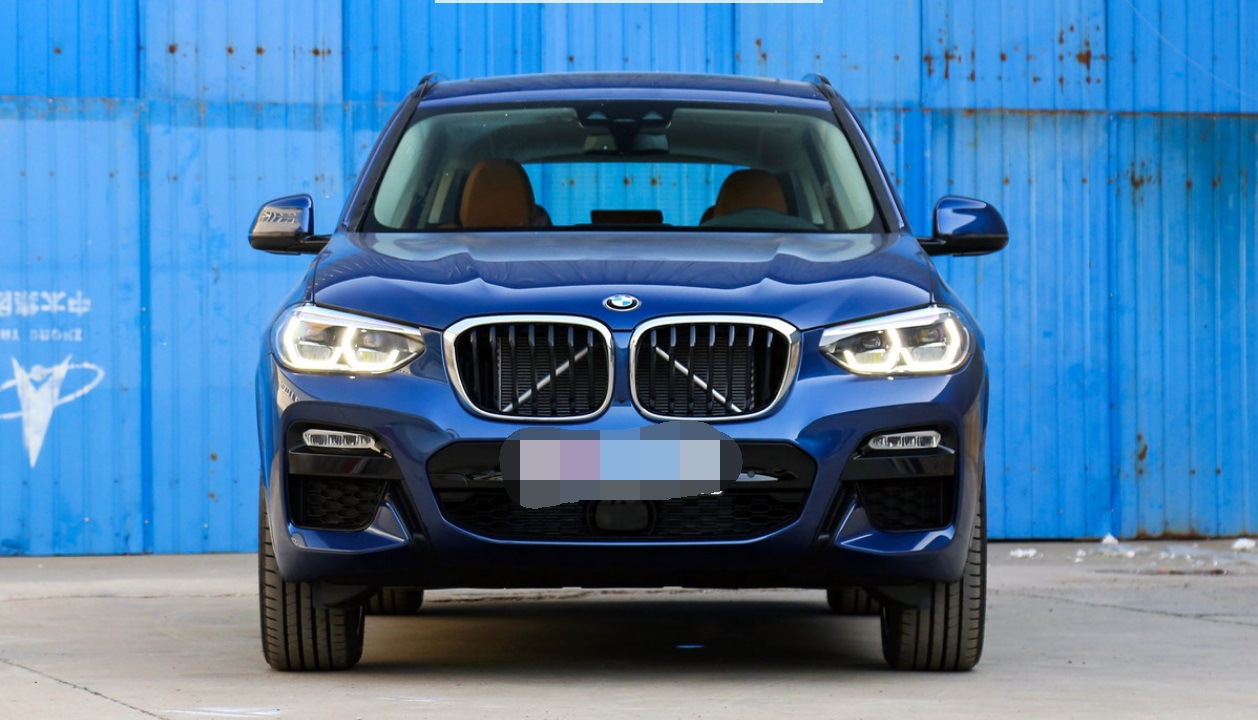SUV: (243, 63, 1013, 679)
